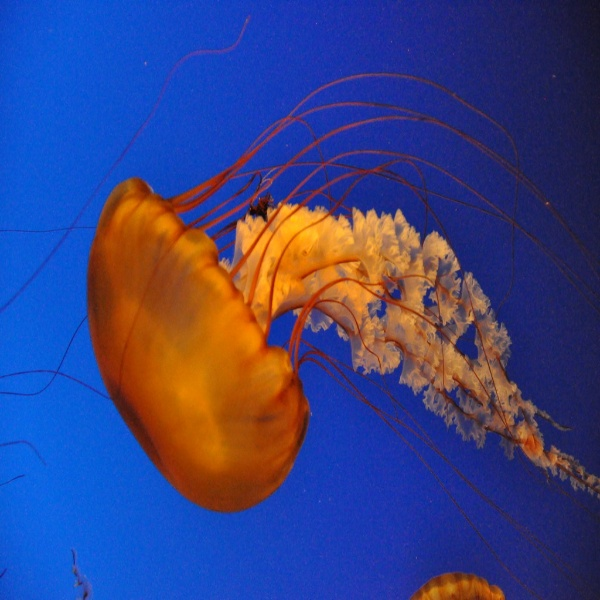Jellyfish: (83, 69, 599, 599)
